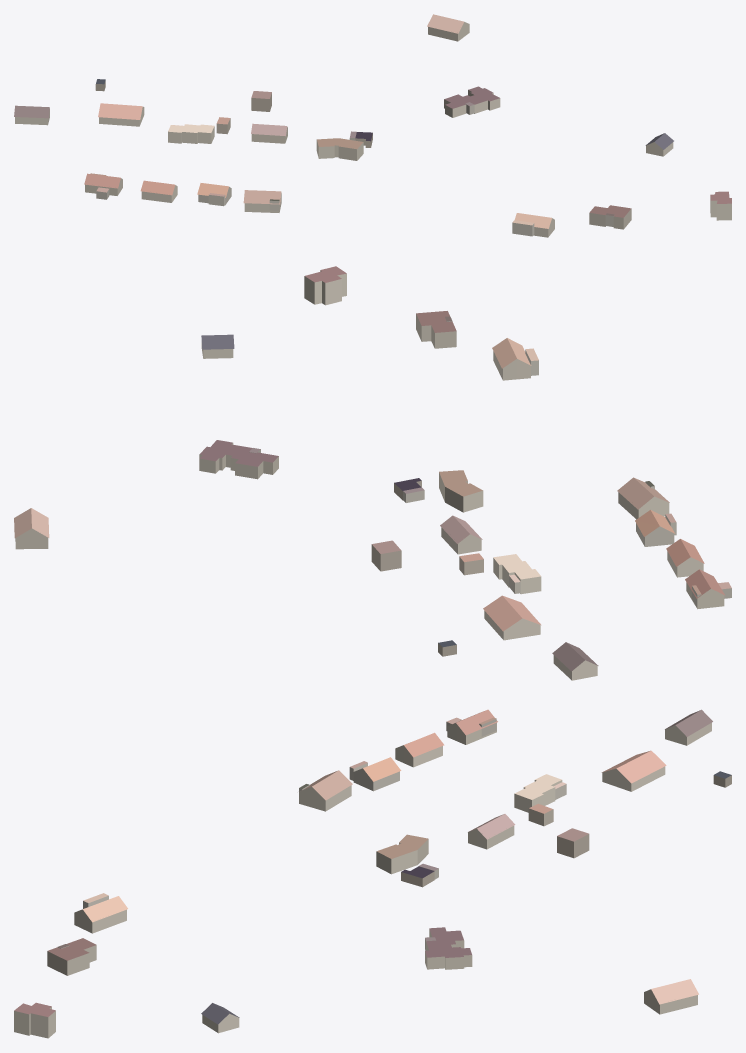
3 views of the same model, one above another, from view 1: azimuth 30°, elevation 25°; view 2: azimuth 150°, elevation 25°; view 3: azimuth 270°, elevation 25° (orthographic). The views are drawn at different scales.
Parts seen in each view (by area): view 1: tuile; view 2: tuile; view 3: tuile.
Boxes of the visible parts, left/top/right/bottom form: tuile: left=14, top=14, right=731, bottom=237; tuile: left=14, top=266, right=731, bottom=680; tuile: left=14, top=709, right=731, bottom=1038.
Size of the model in its own units: 253 by 14.95 by 249.
